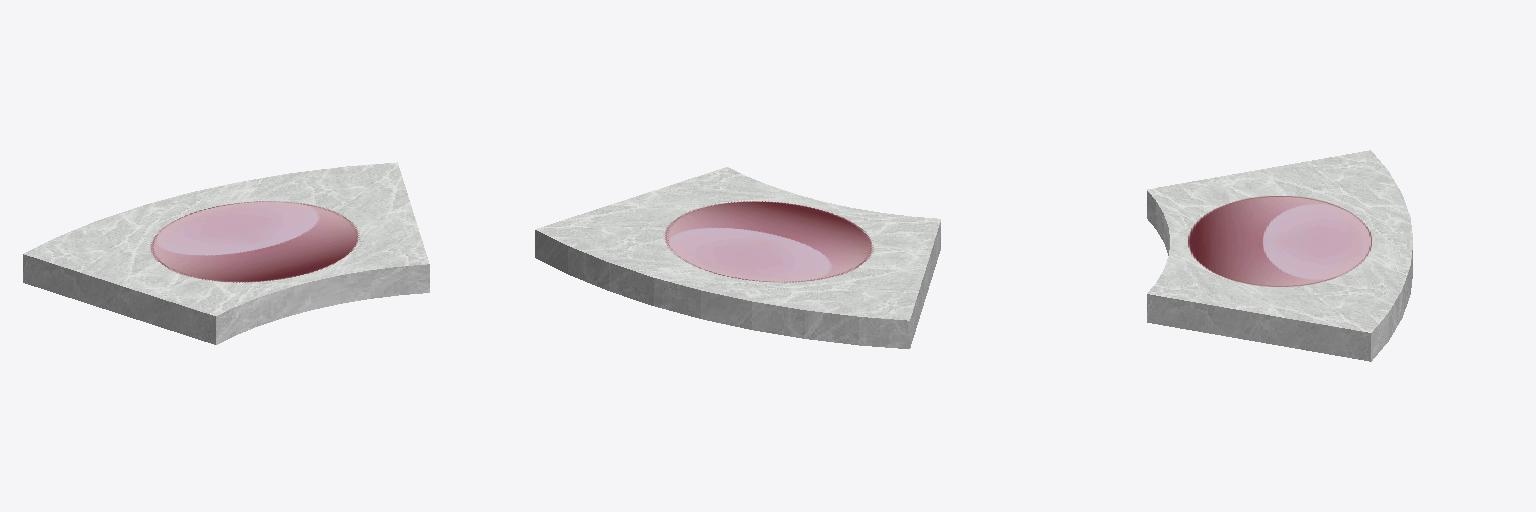
3 views of the same model, side by side, from view 1: azimuth 30°, elevation 25°; view 2: azimuth 150°, elevation 25°; view 3: azimuth 270°, elevation 25° (orthographic).
Visible parts, largest first — view 1: Cylinder.012_Mesh.001, Cylinder.012_Mesh.002; view 2: Cylinder.012_Mesh.001, Cylinder.012_Mesh.002; view 3: Cylinder.012_Mesh.001, Cylinder.012_Mesh.002.
Boxes of the visible parts, x1=… form: Cylinder.012_Mesh.001: x1=24, y1=162, x2=428, y2=315; Cylinder.012_Mesh.002: x1=23, y1=254, x2=429, y2=344; Cylinder.012_Mesh.001: x1=535, y1=167, x2=940, y2=320; Cylinder.012_Mesh.002: x1=535, y1=222, x2=940, y2=348; Cylinder.012_Mesh.001: x1=1147, y1=150, x2=1412, y2=332; Cylinder.012_Mesh.002: x1=1147, y1=191, x2=1412, y2=361.
Size of the model in its own units: 3.79 by 0.277 by 2.34.
2 materials, 2 textured.